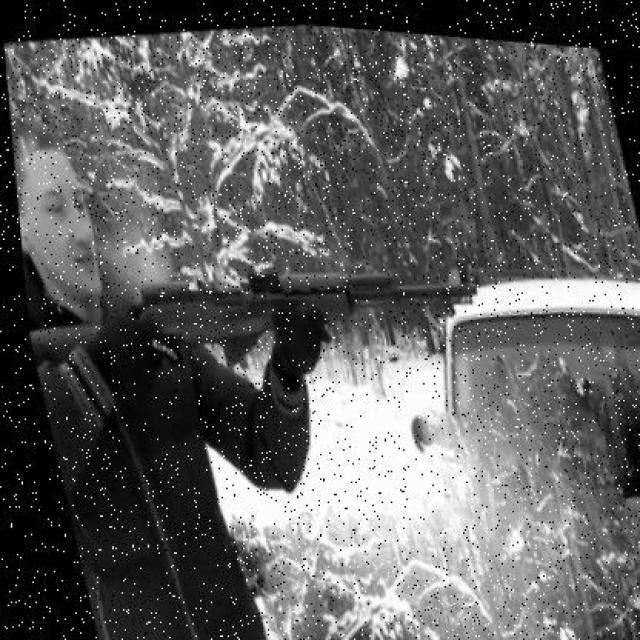weapon: (27, 274, 476, 384)
